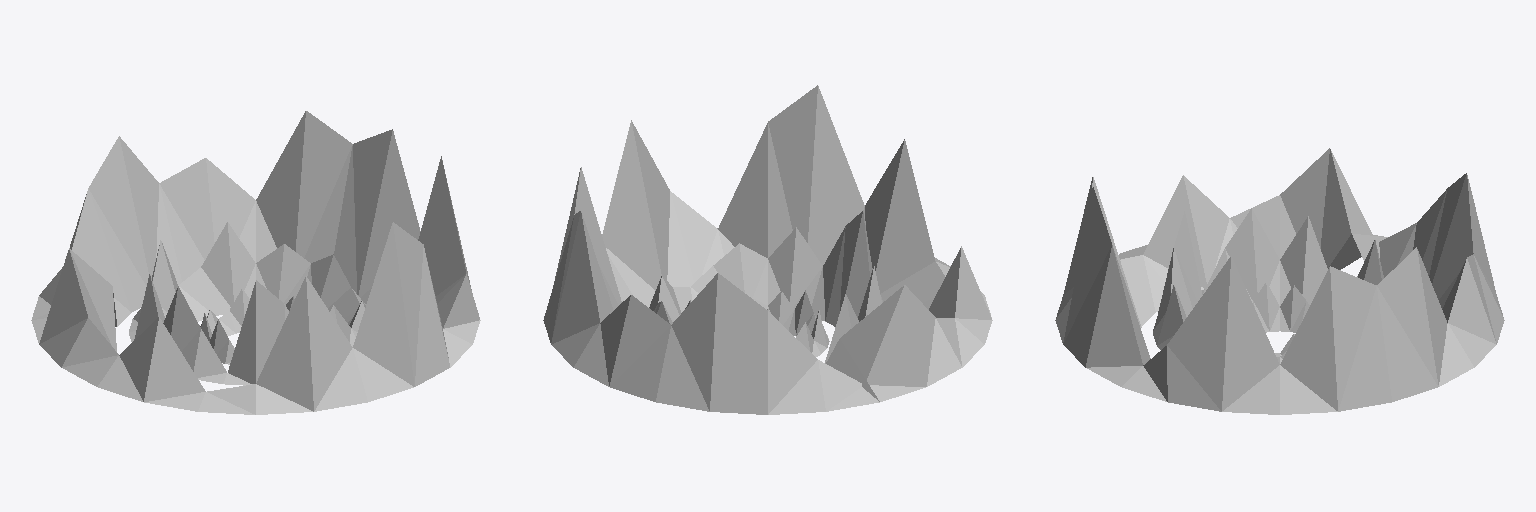
The model's file is ImpactWave.obj.
3 renders of one model, left to right at view 1: azimuth 30°, elevation 25°; view 2: azimuth 150°, elevation 25°; view 3: azimuth 270°, elevation 25°, orthographic.
Visible parts, largest first — view 1: wave3, wave2, wave1; view 2: wave3, wave2, wave1; view 3: wave3, wave2, wave1.
Boxes of the visible parts, box(x1,y1,x2,y2) form: wave3: box(31, 111, 480, 414); wave2: box(129, 222, 365, 385); wave1: box(200, 288, 294, 364); wave3: box(543, 85, 992, 414); wave2: box(649, 211, 882, 363); wave1: box(753, 290, 829, 356); wave3: box(1055, 148, 1504, 414); wave2: box(1153, 208, 1383, 363); wave1: box(1253, 282, 1309, 356).
Size of the model in its own units: 2.5 by 1.13 by 2.5.